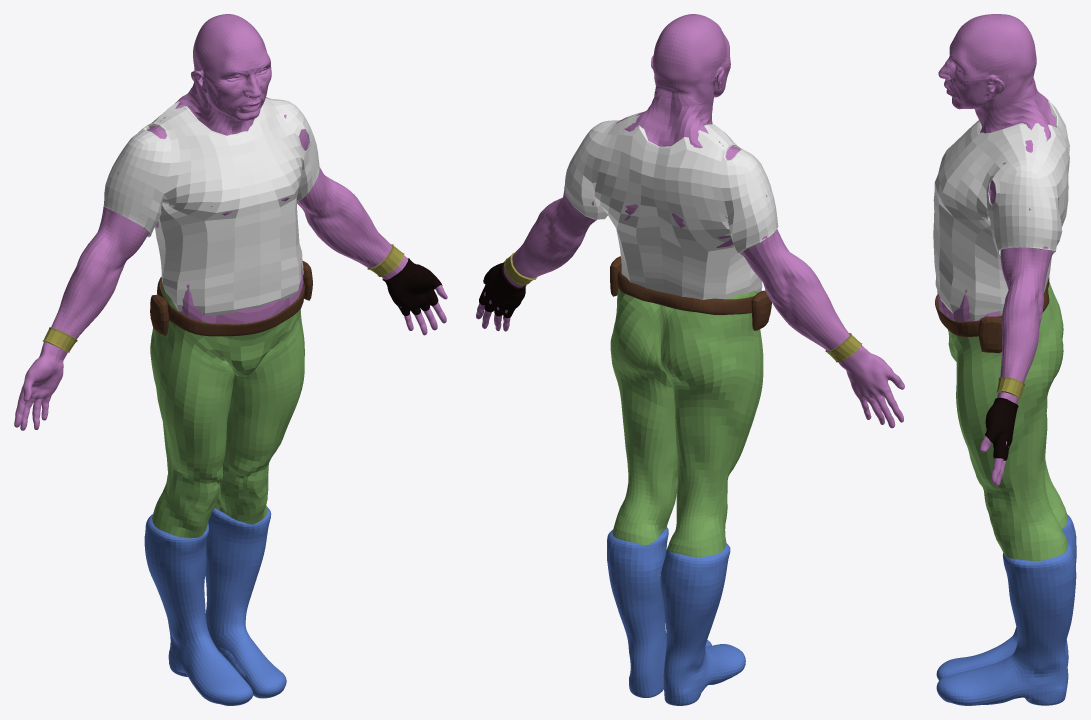
The model's file is NewGhost.fbx.
3 views of the same model, side by side, from view 1: azimuth 30°, elevation 25°; view 2: azimuth 150°, elevation 25°; view 3: azimuth 270°, elevation 25° (orthographic). The views are drawn at different scales.
Visible parts, largest first — view 1: Shirt, Pants, Body, Boots, Belt, Gloves, Bracelets; view 2: Pants, Shirt, Body, Boots, Belt, Gloves, Bracelets; view 3: Shirt, Body, Pants, Boots, Belt, Gloves, Bracelets.
Boxes of the visible parts, x1,y1,x2,y2 form: Shirt: [103, 98, 319, 315]; Pants: [150, 280, 304, 544]; Body: [14, 14, 447, 430]; Boots: [144, 506, 286, 705]; Belt: [150, 261, 312, 336]; Gloves: [382, 258, 442, 315]; Bracelets: [43, 244, 404, 352]; Pants: [610, 271, 763, 576]; Shirt: [564, 111, 778, 299]; Body: [476, 14, 904, 680]; Boots: [607, 527, 745, 705]; Belt: [610, 256, 771, 330]; Gloves: [479, 262, 526, 318]; Bracelets: [504, 252, 862, 362]; Shirt: [933, 101, 1069, 320]; Body: [937, 14, 1055, 486]; Pants: [948, 282, 1067, 560]; Boots: [936, 514, 1076, 705]; Belt: [935, 277, 1049, 353]; Gloves: [985, 397, 1018, 460]; Bracelets: [996, 377, 1024, 399].
Bounding box in the file's own units: 5.44 × 8 × 1.54.
